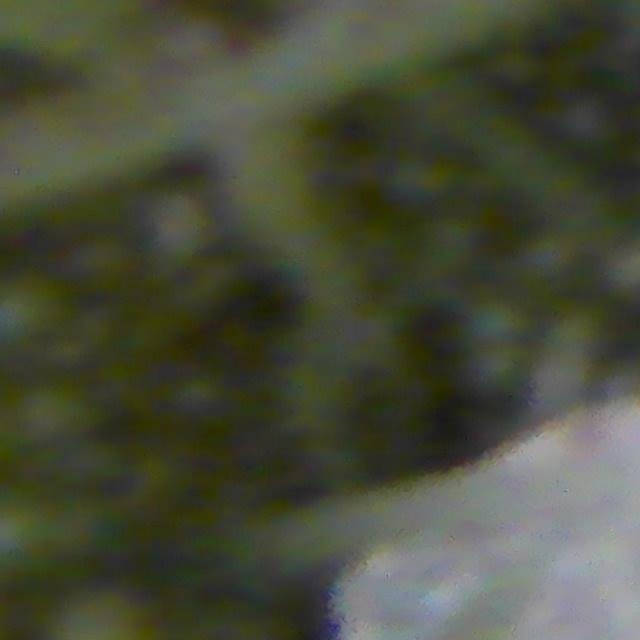SeaGrape: (0, 273, 65, 351), (463, 340, 529, 401), (466, 294, 529, 349)
